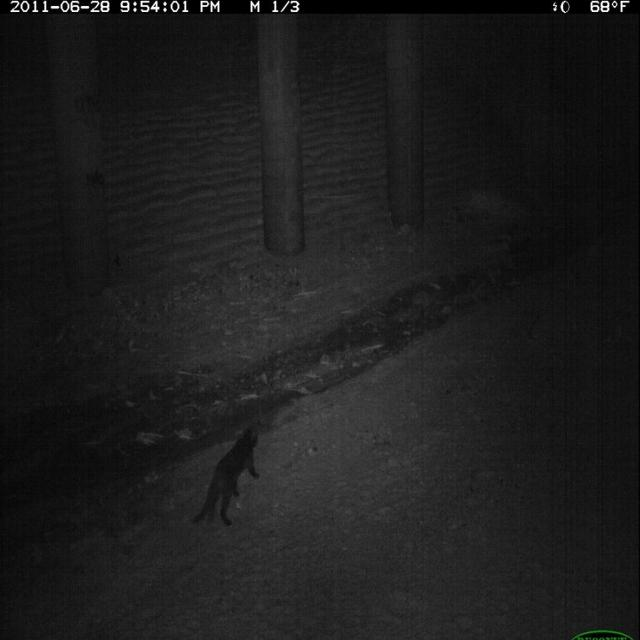cat: (191, 420, 268, 537)
